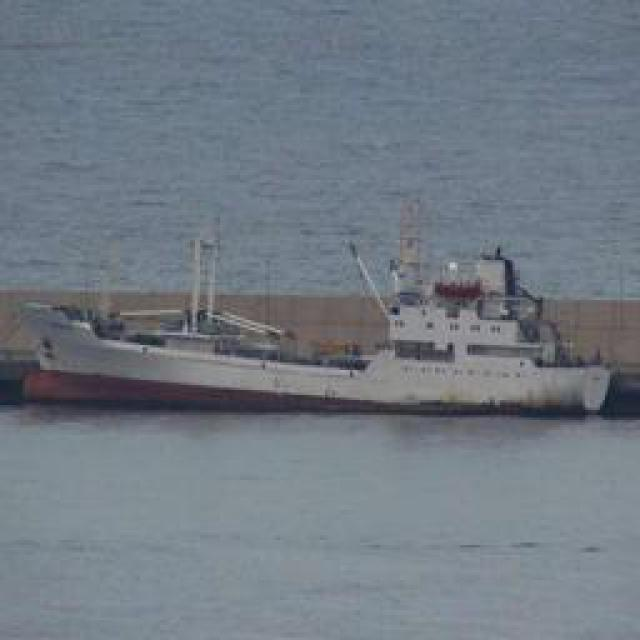Ship: (12, 242, 612, 420)
